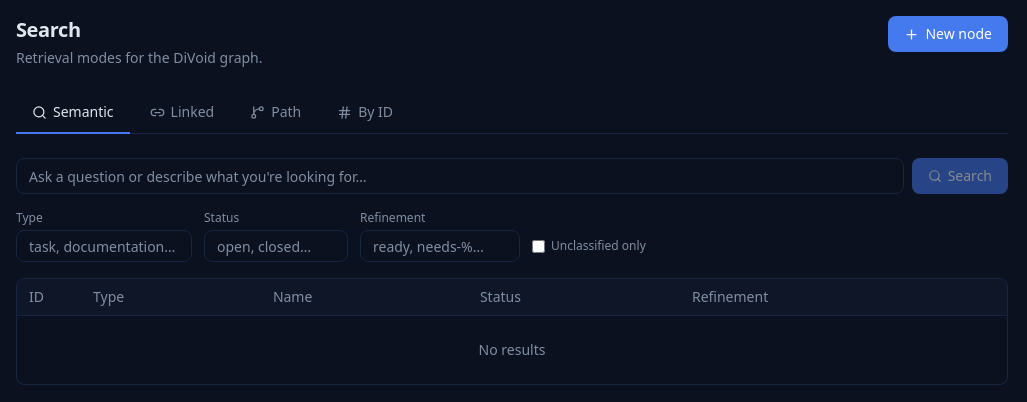
Test: SearchPage › path tab shows column-pointing error message on 400
Click the tab "Path": [276, 113] box [234,92,317,134]
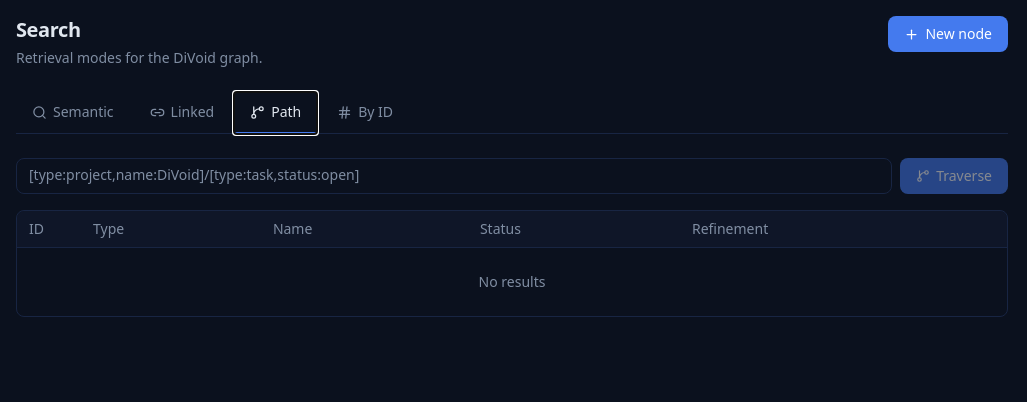
fireEvent.change avoids userEvent's keyboard-descriptor parsing of "[" characters
In the field named "path expression": [454, 176] box [16,158,892,194], type "[bad"
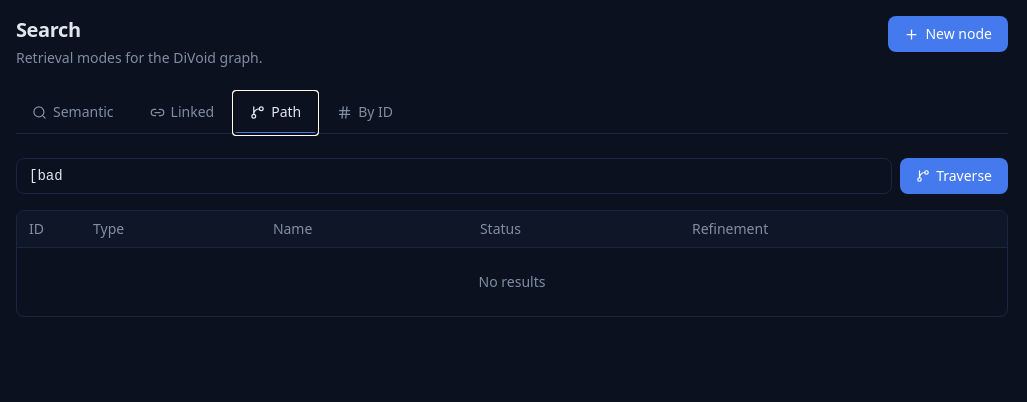
Click the button "Traverse": [954, 176] box [900,158,1008,194]
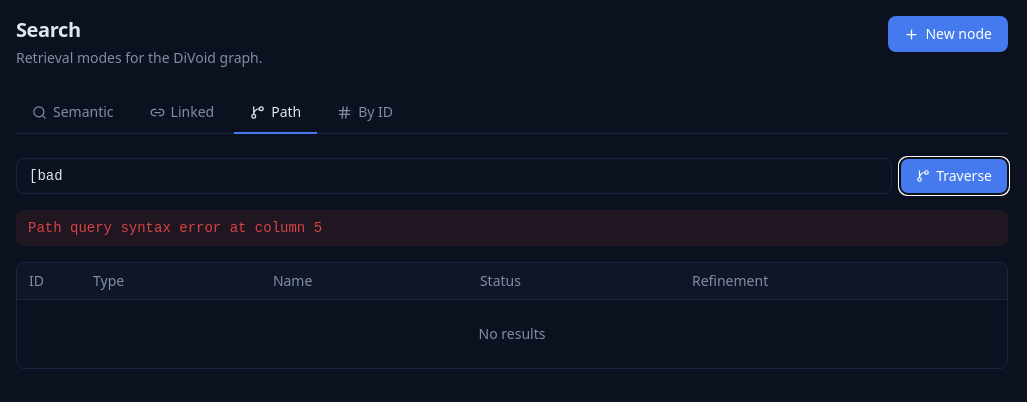
Check: the message reads "Path query syntax error at column 5", box [28,220,322,236]
